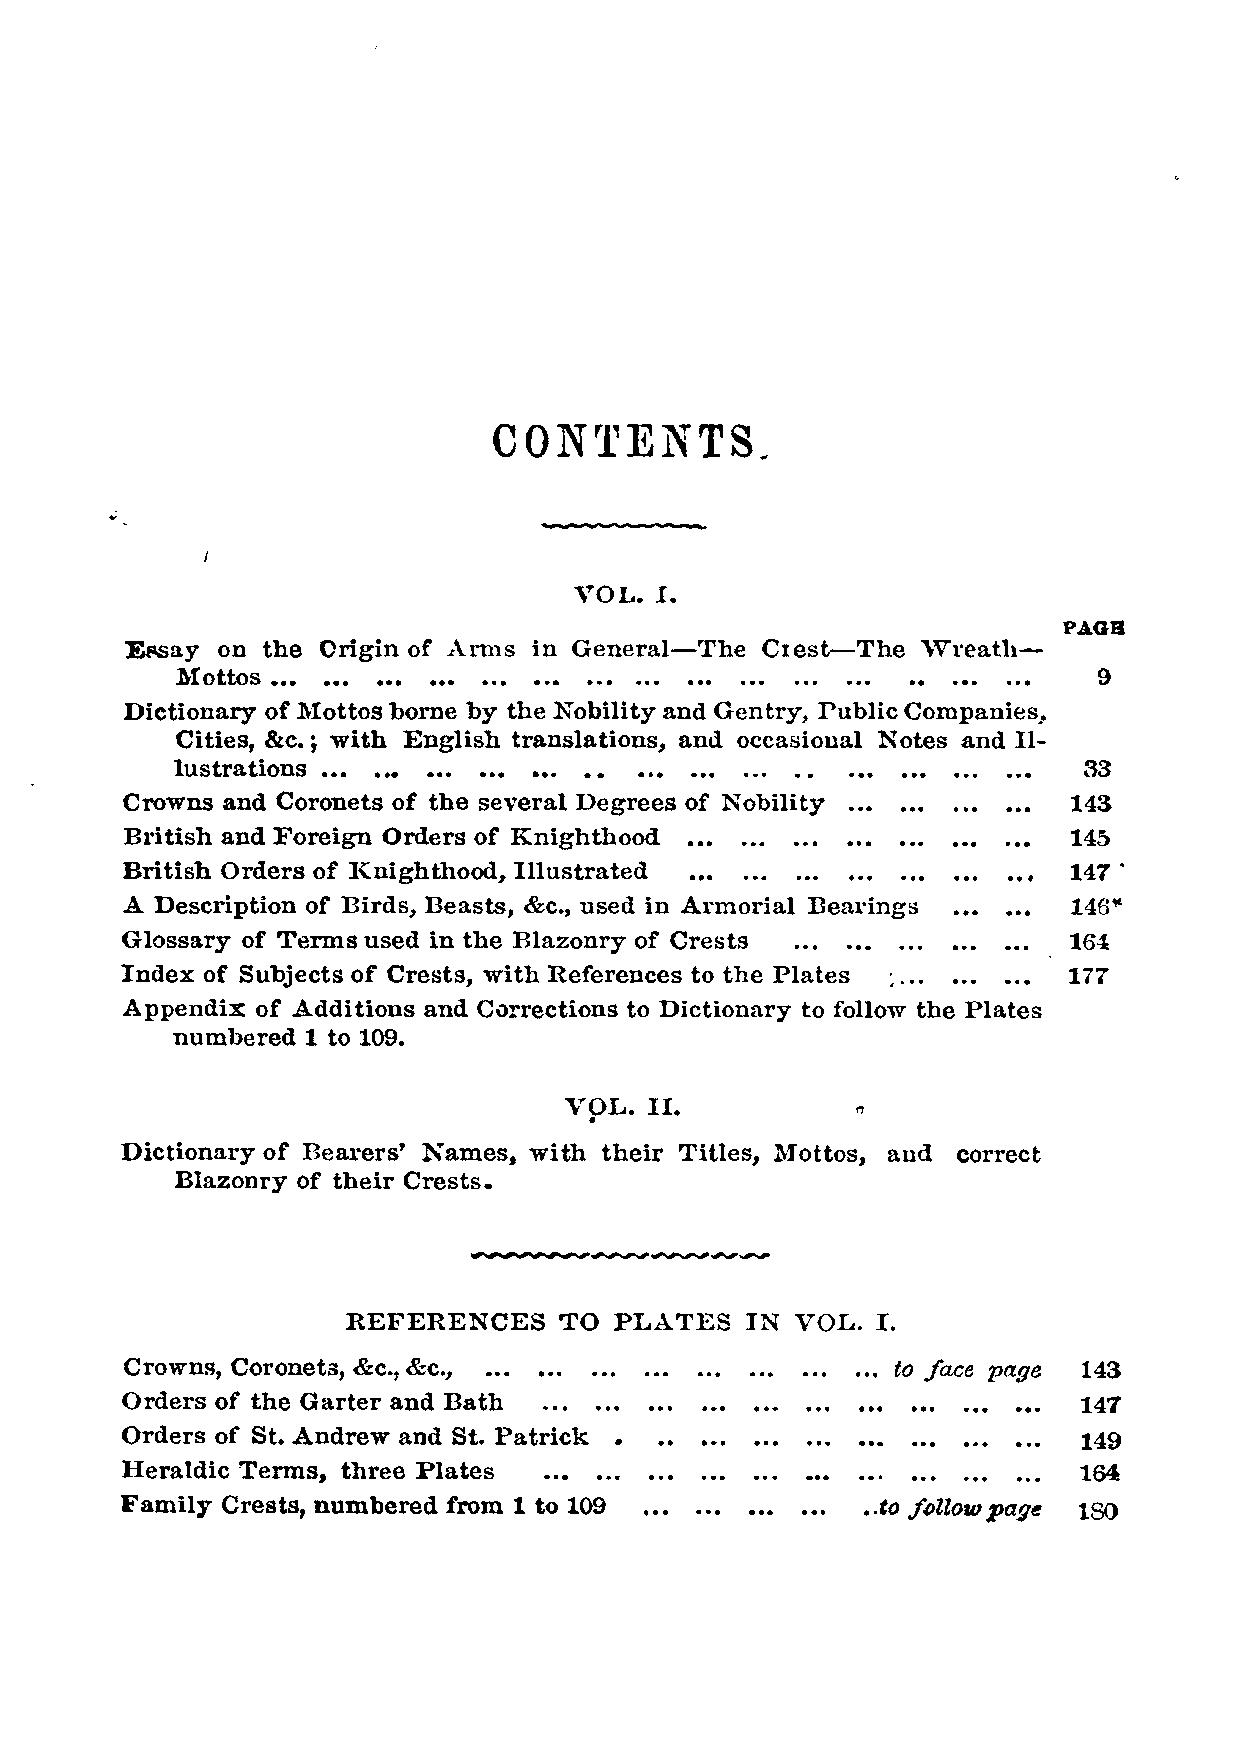TOC_chapter: (115, 1096, 1041, 1197), (122, 698, 1048, 780), (123, 635, 1047, 688), (123, 994, 1045, 1021), (121, 891, 925, 918), (118, 960, 856, 986), (121, 790, 824, 817), (346, 1308, 899, 1337), (115, 927, 747, 951), (122, 1490, 609, 1519), (121, 1420, 595, 1447), (121, 825, 663, 848), (123, 858, 652, 880), (119, 1388, 505, 1414), (119, 1457, 498, 1482), (119, 1354, 456, 1380), (165, 1024, 411, 1053), (570, 581, 682, 607)
TOC_pagenumber: (1070, 786, 1117, 816), (1070, 823, 1115, 847), (1079, 1357, 1127, 1380), (1079, 1455, 1119, 1482), (1070, 929, 1113, 953), (1068, 962, 1111, 986), (1070, 858, 1114, 880), (1090, 658, 1119, 690), (1082, 1427, 1123, 1449), (1078, 1393, 1129, 1410), (1078, 1500, 1119, 1520), (1071, 894, 1107, 917), (1082, 756, 1110, 776)
chapter: (491, 420, 756, 460)
